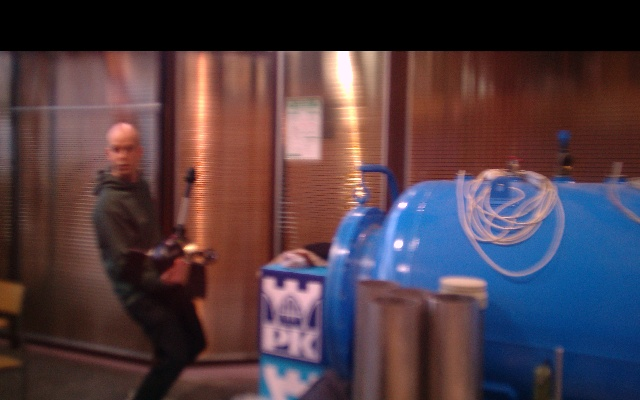black: (176, 194, 191, 233)
